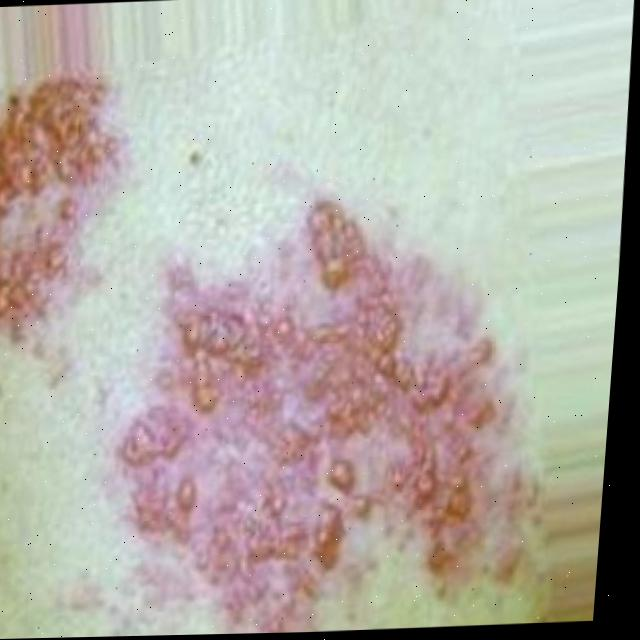Shingles: (99, 180, 566, 637), (0, 64, 131, 343)
